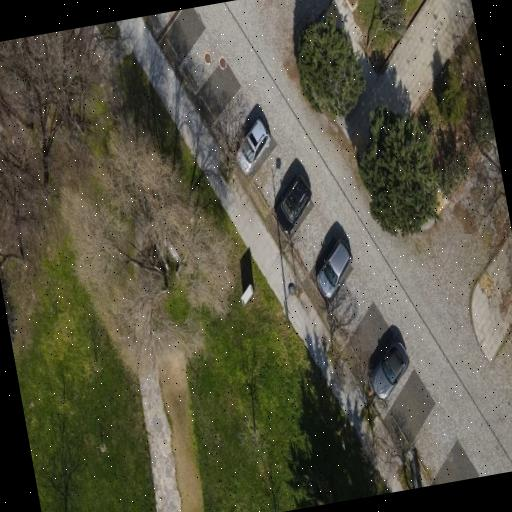car: (371, 338, 409, 400), (275, 174, 312, 235), (317, 239, 352, 299), (237, 119, 270, 174)
